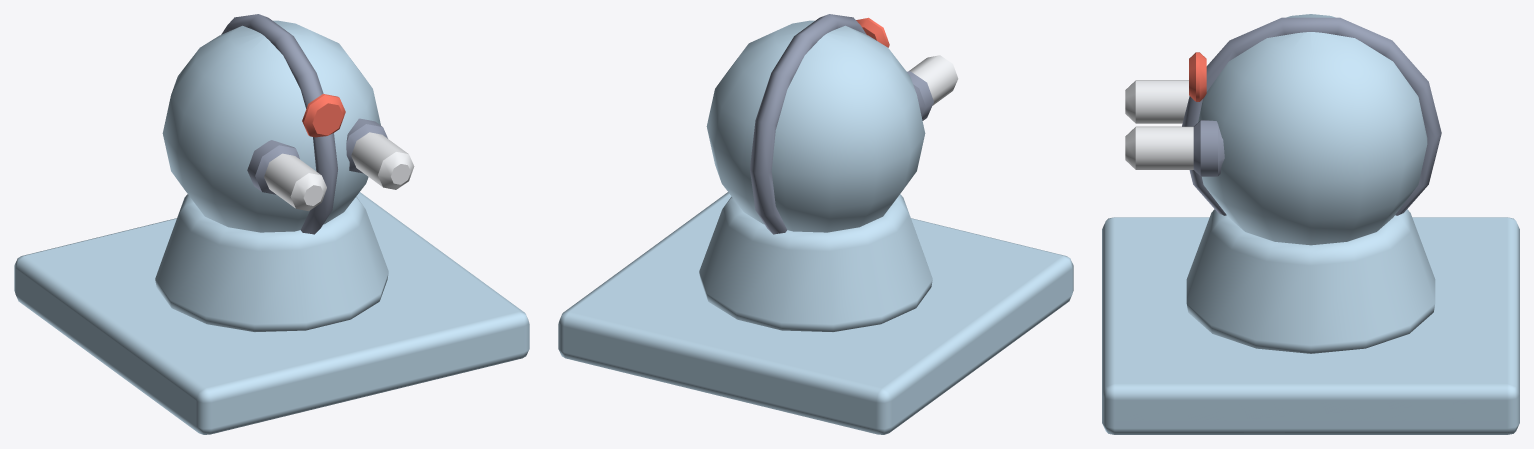
File: R4X_PointDefense.fbx
3 renders of one model, left to right at view 1: azimuth 30°, elevation 25°; view 2: azimuth 150°, elevation 25°; view 3: azimuth 270°, elevation 25°, orthographic. The views are drawn at different scales.
Parts seen in each view (by area): view 1: R4X_PointDefense_Body, R4X_PointDefense_Turret; view 2: R4X_PointDefense_Body, R4X_PointDefense_Turret; view 3: R4X_PointDefense_Body, R4X_PointDefense_Turret.
Part boxes in pixels (x1,y1,x2,y2): R4X_PointDefense_Body: [14, 192, 529, 434]; R4X_PointDefense_Turret: [162, 14, 414, 234]; R4X_PointDefense_Body: [558, 192, 1073, 434]; R4X_PointDefense_Turret: [706, 14, 958, 234]; R4X_PointDefense_Body: [1102, 209, 1519, 434]; R4X_PointDefense_Turret: [1125, 14, 1441, 245].
Size of the model in its own units: 0.52 by 0.4587 by 0.52.
